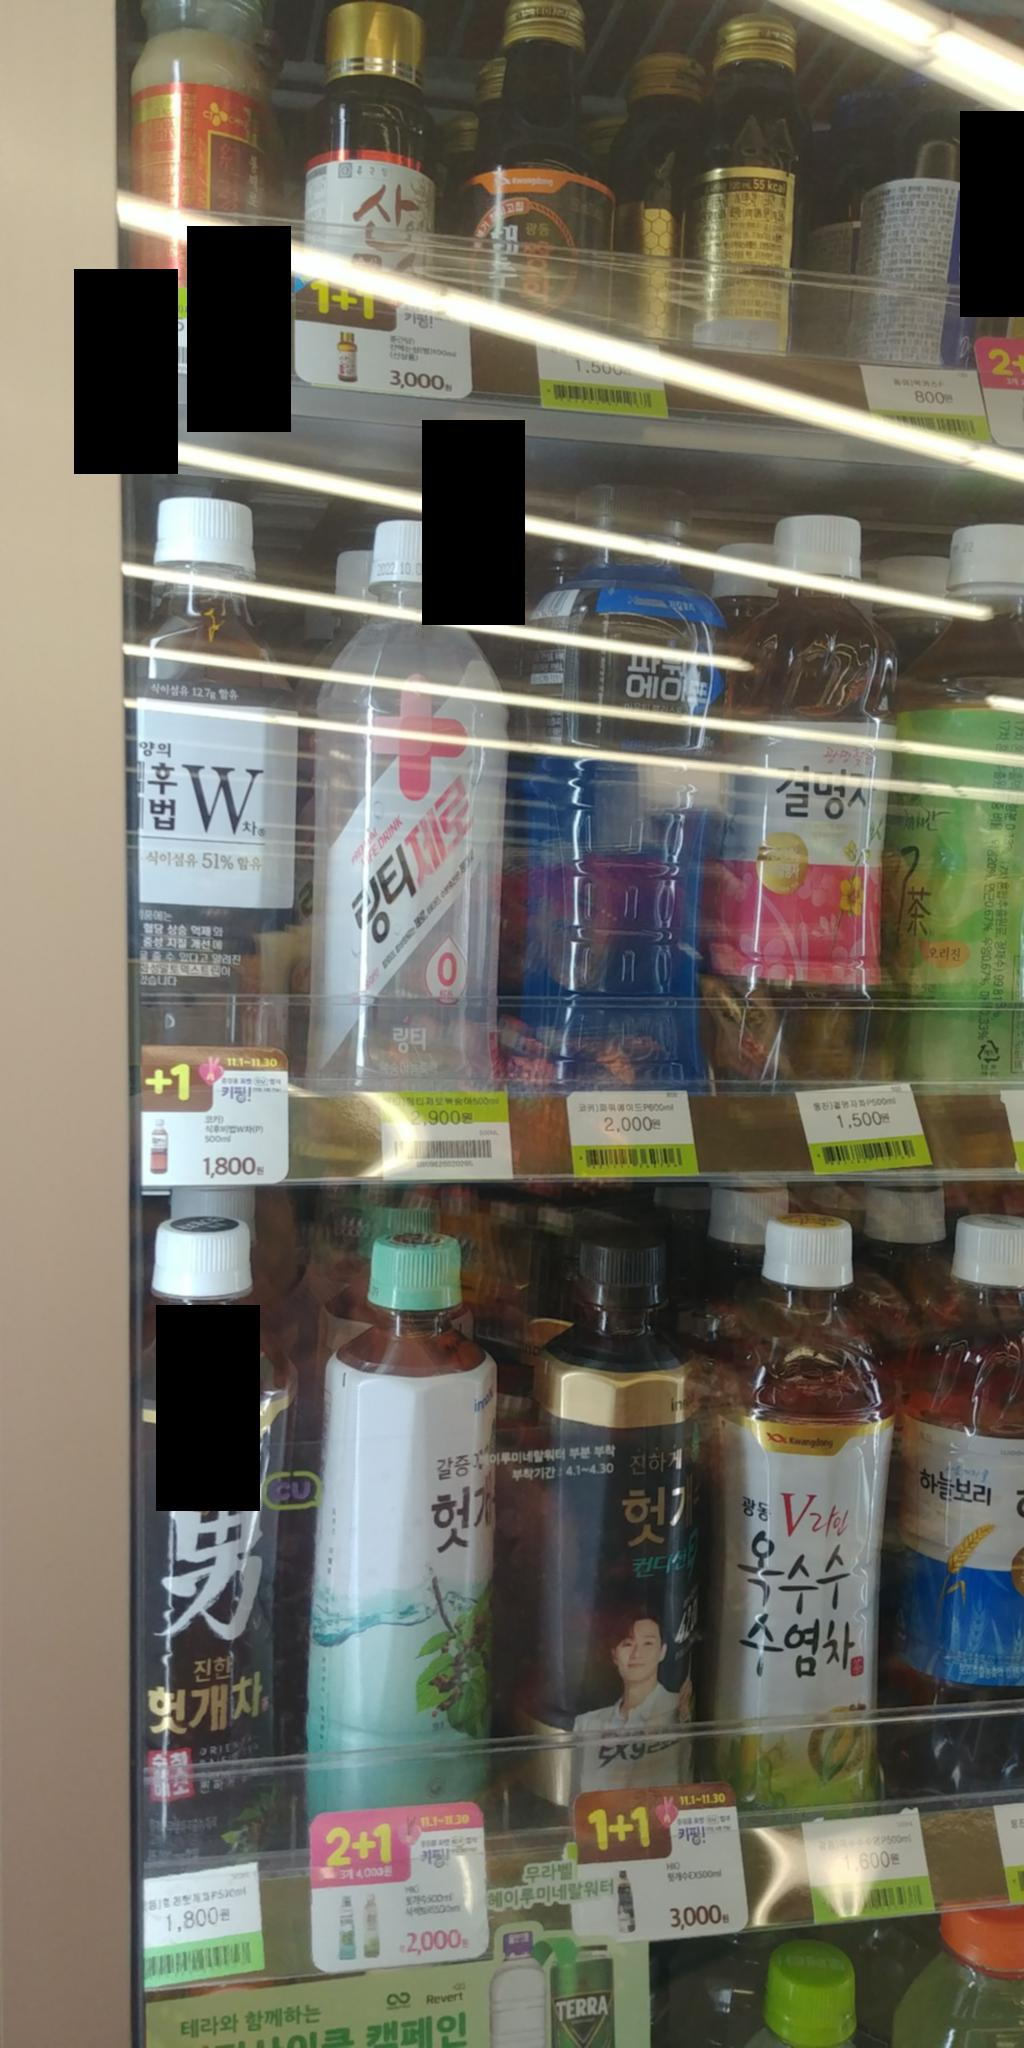haneulbori: (884, 1194, 1024, 1795)
heotgaecha: (138, 1196, 303, 1870)
oksususuyeomcha: (705, 1196, 893, 1829)
powerade_mountainblast: (511, 470, 738, 1110)
